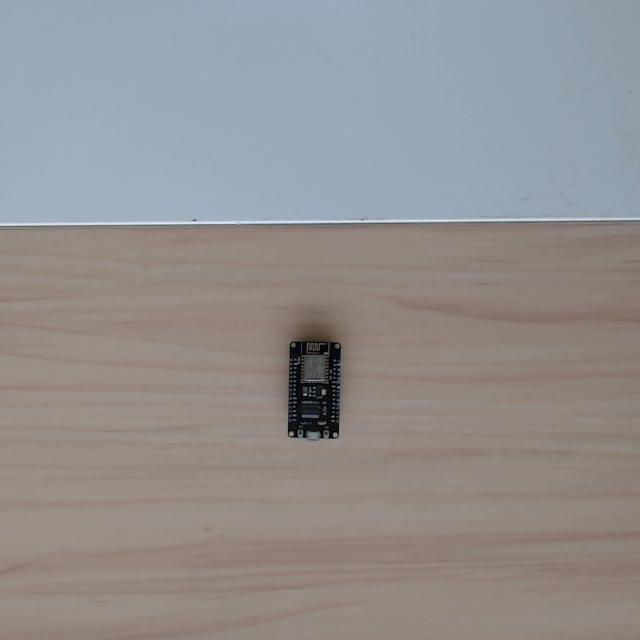ESP8266-NodeMCU: (288, 342, 342, 442)
